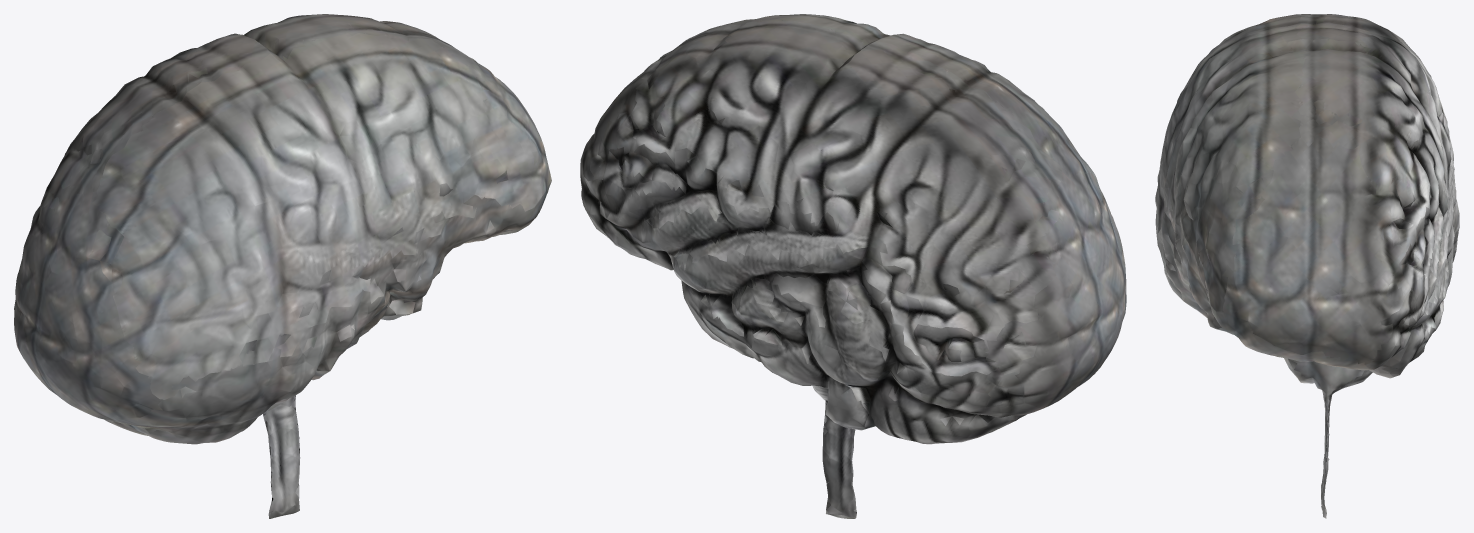
The model's file is brain.glb.
3 renders of one model, left to right at view 1: azimuth 30°, elevation 25°; view 2: azimuth 150°, elevation 25°; view 3: azimuth 270°, elevation 25°, orthographic. The views are drawn at different scales.
Visible parts, largest first — view 1: world; view 2: world; view 3: world.
Part boxes in pixels (x1,y1,x2,y2): world: [14, 14, 551, 518]; world: [580, 14, 1126, 518]; world: [1155, 14, 1459, 518].
Size of the model in its own units: 0.9431 by 0.8598 by 0.511.
1 material, 1 textured.
